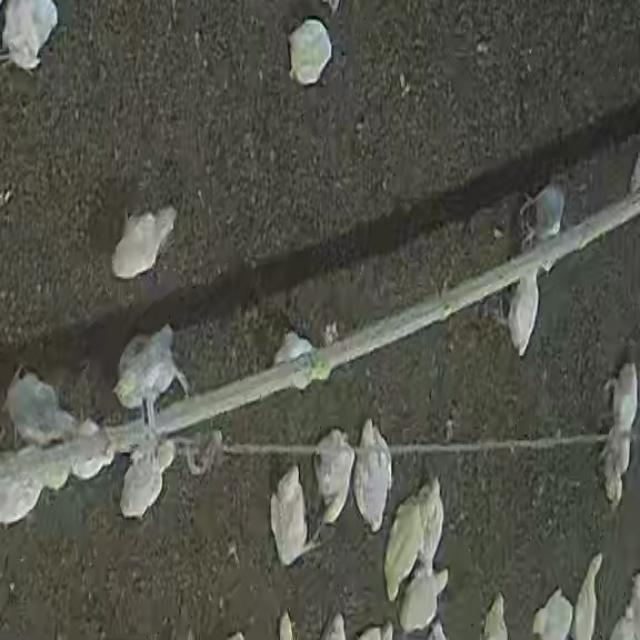chicken: (3, 368, 75, 448), (107, 199, 179, 277), (384, 487, 429, 601), (272, 465, 318, 564), (352, 420, 392, 531), (120, 324, 178, 400), (313, 428, 356, 528), (119, 438, 170, 521), (0, 0, 58, 69), (511, 180, 564, 240), (288, 17, 334, 86), (575, 549, 607, 640), (508, 276, 542, 356), (612, 352, 640, 430)
